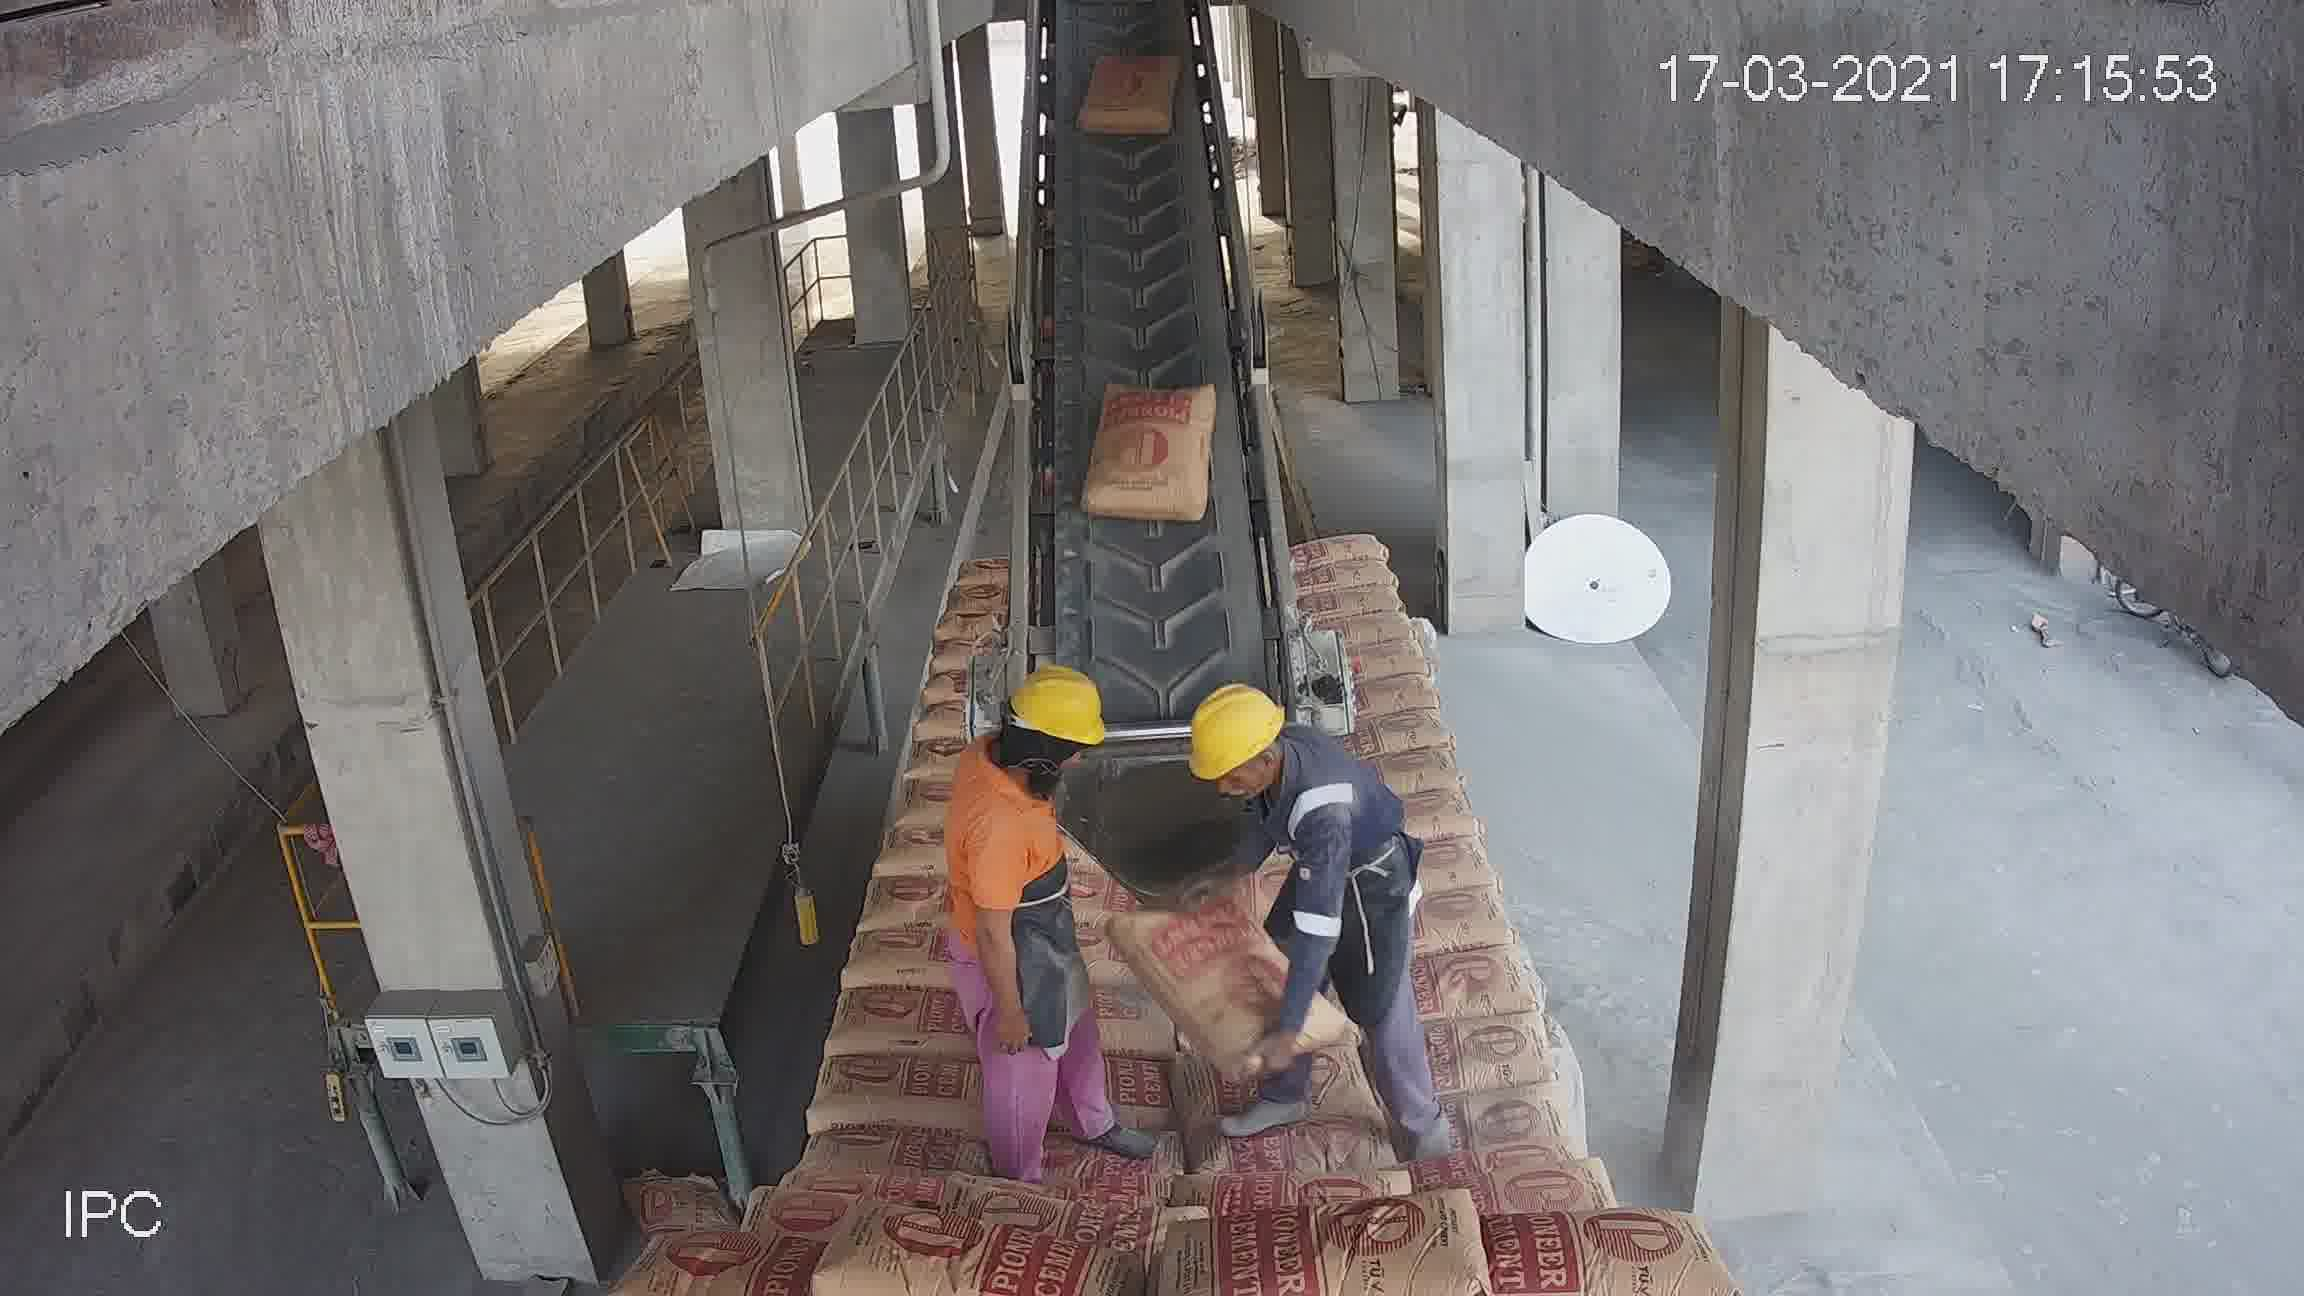bag: (1079, 380, 1215, 514), (1081, 44, 1184, 139)
bag_h: (1105, 888, 1342, 1054), (1211, 1211, 1521, 1296), (1434, 1199, 1706, 1296), (820, 1225, 1105, 1294), (1198, 1101, 1413, 1185), (1166, 1054, 1369, 1139), (786, 1116, 984, 1199), (636, 1225, 855, 1296), (809, 1059, 992, 1138), (818, 975, 986, 1057), (1416, 1014, 1556, 1097), (1431, 1081, 1563, 1158), (1415, 945, 1522, 1014), (1408, 885, 1513, 956), (1299, 587, 1405, 628), (1301, 557, 1400, 597), (1298, 538, 1393, 563)
belt: (994, 21, 1294, 855)
